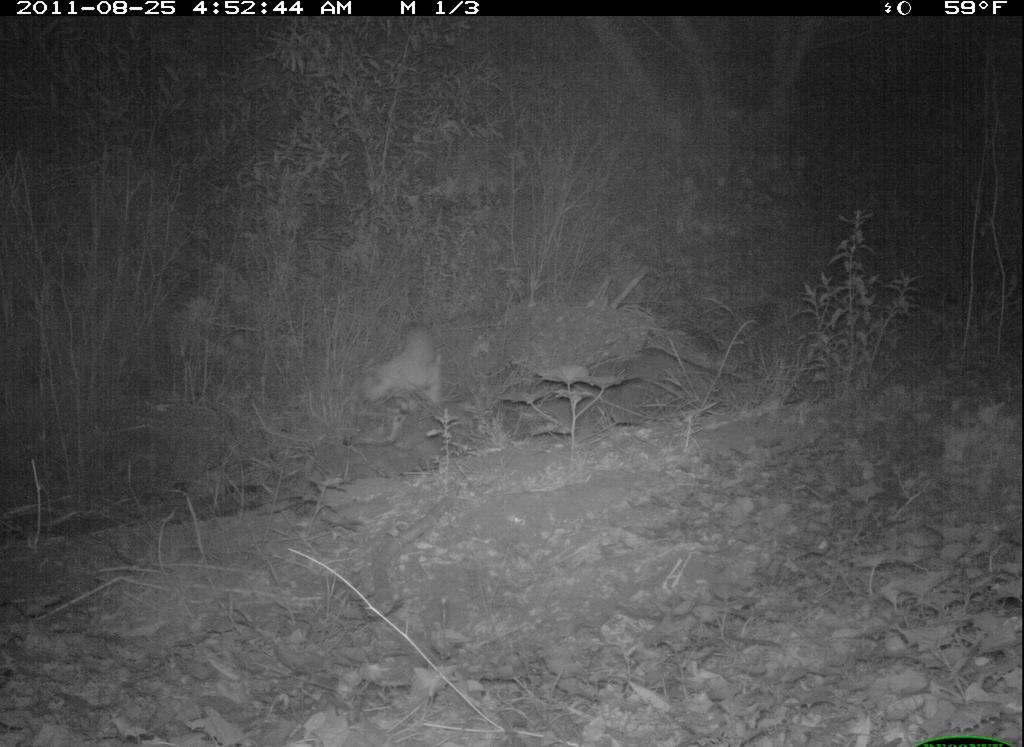bobcat: (354, 312, 453, 451)
